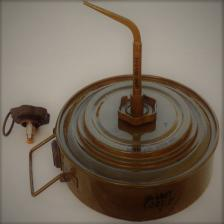TM-46: (21, 61, 224, 200)
